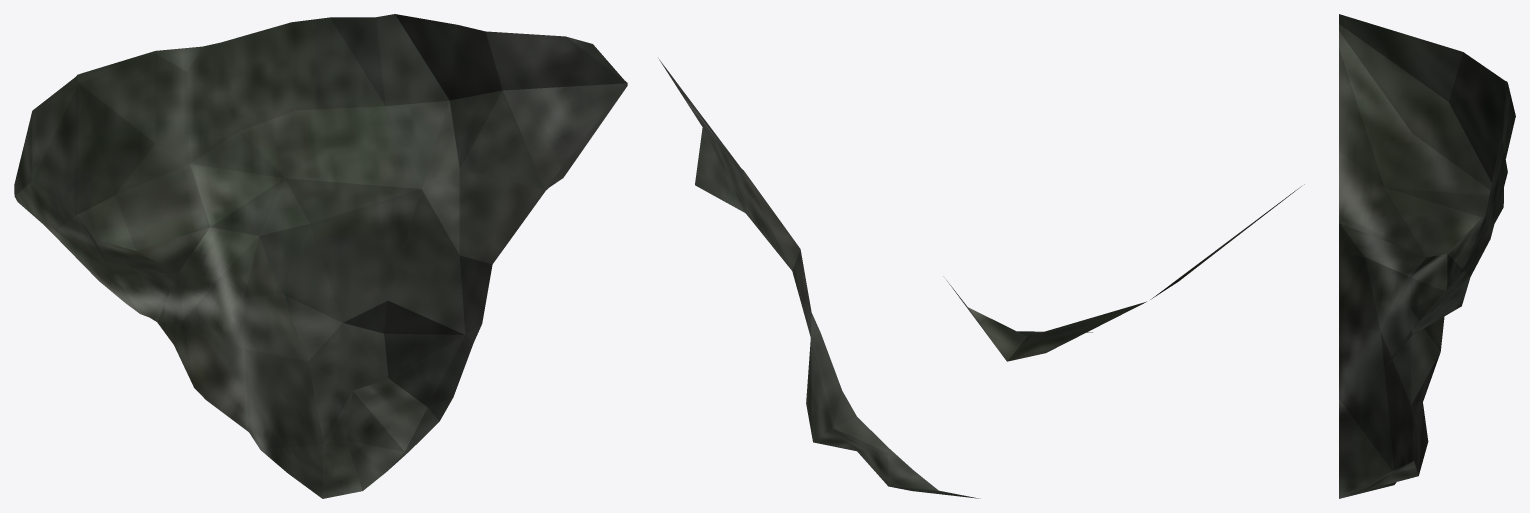
3 renders of one model, left to right at view 1: azimuth 30°, elevation 25°; view 2: azimuth 150°, elevation 25°; view 3: azimuth 270°, elevation 25°, orthographic. The views are drawn at different scales.
Size of the model in its own units: 2.54 by 1.55 by 0.7346.
1 material, 1 textured.
